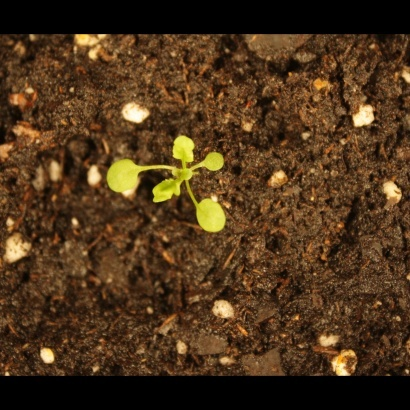leaf: (102, 154, 142, 198), (192, 197, 231, 240), (149, 175, 185, 208), (170, 131, 200, 167), (203, 146, 234, 178), (171, 163, 194, 186)
